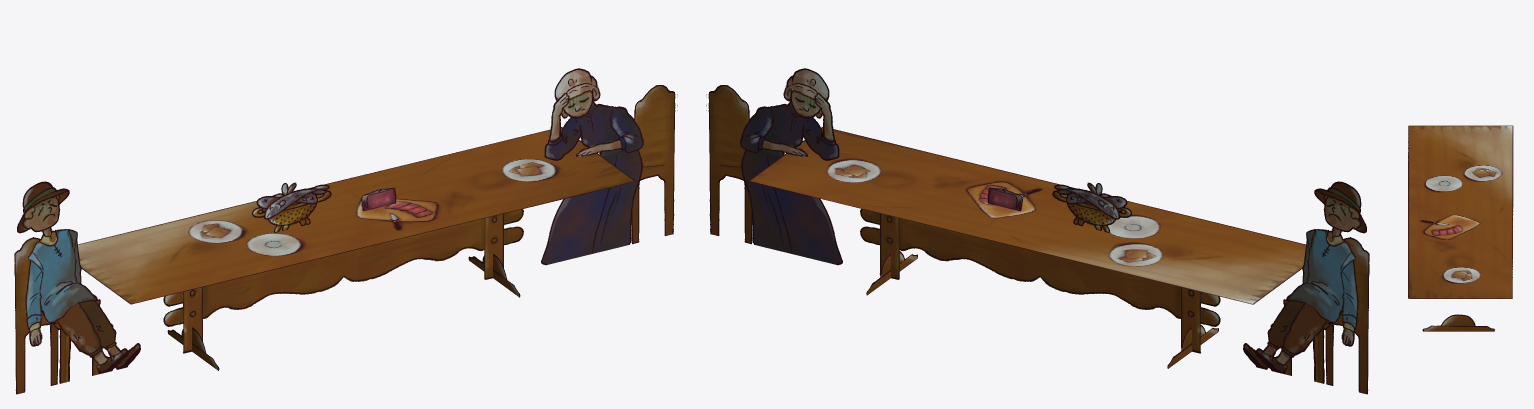
3 views of the same model, side by side, from view 1: azimuth 30°, elevation 25°; view 2: azimuth 150°, elevation 25°; view 3: azimuth 270°, elevation 25° (orthographic). The views are drawn at different scales.
Visible parts, largest first — view 1: tischfuss1; view 2: tischfuss1; view 3: tischfuss1.
Part boxes in pixels (x1=…): tischfuss1: x1=14, y1=68, x2=677, y2=394; tischfuss1: x1=706, y1=68, x2=1369, y2=394; tischfuss1: x1=1408, y1=125, x2=1513, y2=331.
Bounding box in the file's own units: 2 × 0.6316 × 0.4528.
Materials: 3 (3 with a texture image).
